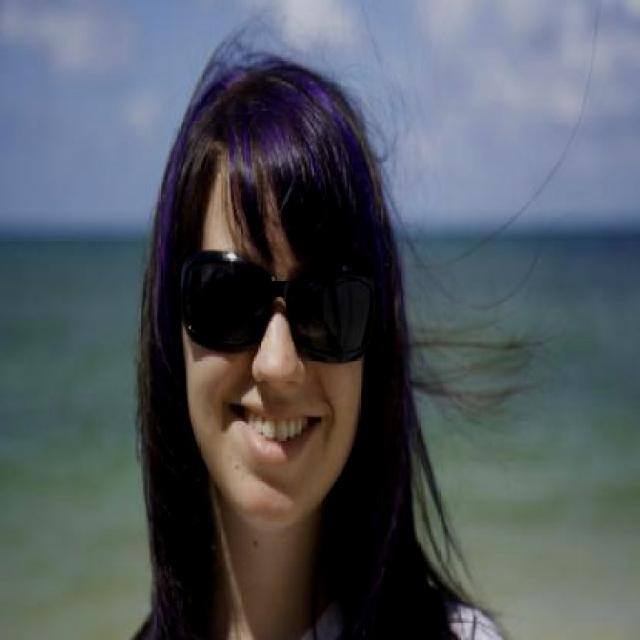face_nomask: (182, 246, 362, 472)
glasses: (166, 238, 385, 380)
head_nohelmet: (162, 80, 406, 212)
person: (106, 69, 494, 640)
